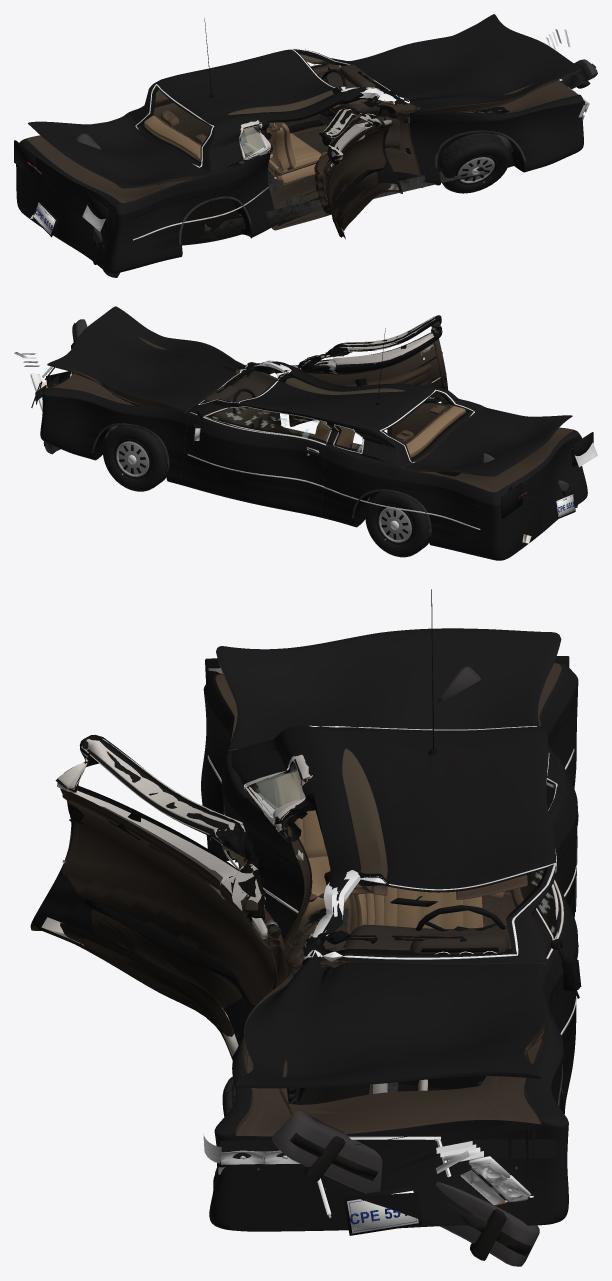
The model's file is coupe84_side_R_d3_lod1.glb.
3 renders of one model, top to bottom at view 1: azimuth 30°, elevation 25°; view 2: azimuth 150°, elevation 25°; view 3: azimuth 270°, elevation 25°, orthographic. The views are drawn at different scales.
Parts seen in each view (by area): view 1: Body, Hood, Trunk, Interior, Door_FR, Wheel_FR_mesh, Underbody, Trim_FR, Ends, Trim, Glass, Bumper_F (+2 smaller); view 2: Body, Hood, Door_FL, Trunk, Door_FR, Interior, Wheel_FL_mesh, Wheel_RL_mesh, Trim_FR, Ends, Trim, Trim_FL (+4 smaller); view 3: Body, Door_FR, Hood, Trunk, Interior, Ends, Bumper_F, Trim_FR, Glass, Door_FL, Trim, Trim_FL.
Part boxes in pixels (left/top/right/bottom): Body: left=16, top=49, right=583, bottom=273; Hood: left=350, top=14, right=581, bottom=116; Trunk: left=28, top=115, right=207, bottom=188; Interior: left=144, top=64, right=401, bottom=184; Door_FR: left=319, top=107, right=402, bottom=239; Wheel_FR_mesh: left=439, top=132, right=509, bottom=193; Underbody: left=30, top=164, right=485, bottom=240; Trim_FR: left=314, top=108, right=398, bottom=233; Ends: left=14, top=29, right=589, bottom=237; Trim: left=133, top=18, right=526, bottom=247; Glass: left=135, top=48, right=409, bottom=167; Bumper_F: left=559, top=59, right=597, bottom=89; Body: left=40, top=361, right=587, bottom=560; Hood: left=47, top=306, right=244, bottom=413; Door_FL: left=181, top=405, right=331, bottom=517; Trunk: left=403, top=406, right=572, bottom=476; Door_FR: left=289, top=315, right=447, bottom=426; Interior: left=204, top=370, right=465, bottom=457; Wheel_FL_mesh: left=103, top=425, right=166, bottom=491; Wheel_RL_mesh: left=365, top=491, right=429, bottom=557; Trim_FR: left=292, top=315, right=446, bottom=397; Ends: left=14, top=352, right=597, bottom=519; Trim: left=92, top=328, right=480, bottom=536; Trim_FL: left=187, top=406, right=331, bottom=487; Body: left=201, top=662, right=578, bottom=1231; Door_FR: left=30, top=735, right=288, bottom=1060; Hood: left=236, top=958, right=548, bottom=1088; Trunk: left=216, top=628, right=561, bottom=753; Interior: left=274, top=770, right=527, bottom=954; Ends: left=203, top=656, right=569, bottom=1235; Bumper_F: left=271, top=1111, right=539, bottom=1266; Trim_FR: left=41, top=738, right=285, bottom=1056; Glass: left=244, top=725, right=557, bottom=961; Door_FL: left=520, top=832, right=577, bottom=1096; Trim: left=207, top=589, right=578, bottom=1174; Trim_FL: left=511, top=780, right=581, bottom=1035.
Size of the model in its own units: 5.55 by 1.97 by 2.49.
Materials: 34 (5 with a texture image).
